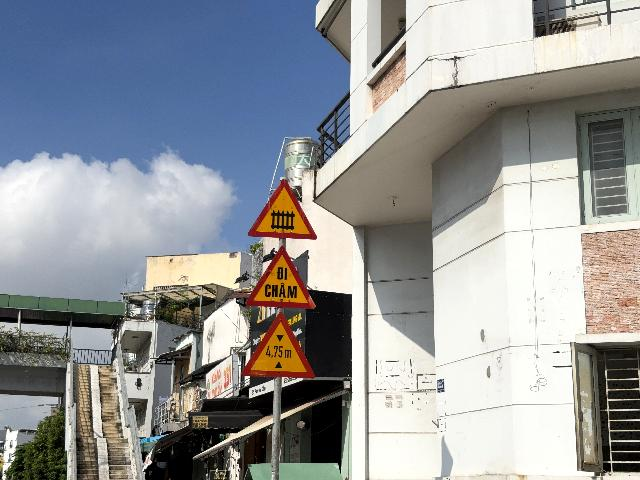chieu-cao-tinh-khong-thuc-te: (241, 311, 316, 379)
di-cham: (245, 246, 316, 309)
noi-giao-nhau-voi-duong-sat-co-rao-chan: (248, 177, 318, 239)
